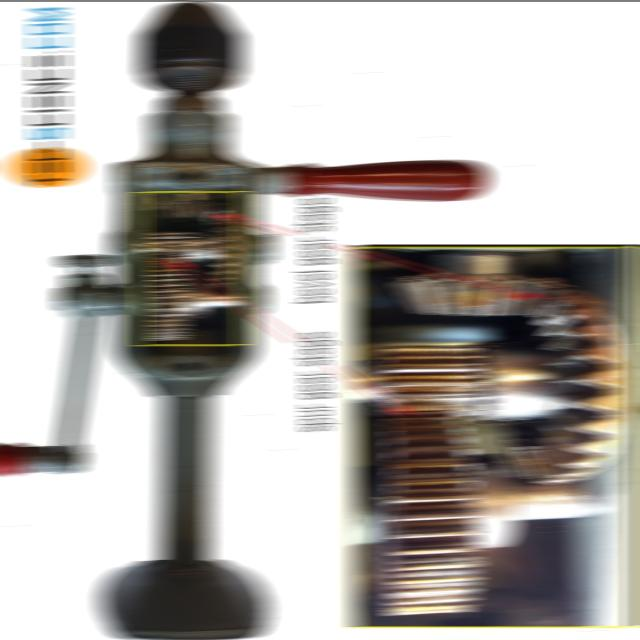Gear: (496, 283, 630, 485), (374, 410, 486, 616), (372, 340, 492, 418), (388, 272, 564, 316), (147, 256, 191, 341), (203, 203, 243, 289), (153, 198, 225, 222), (145, 228, 195, 262)
